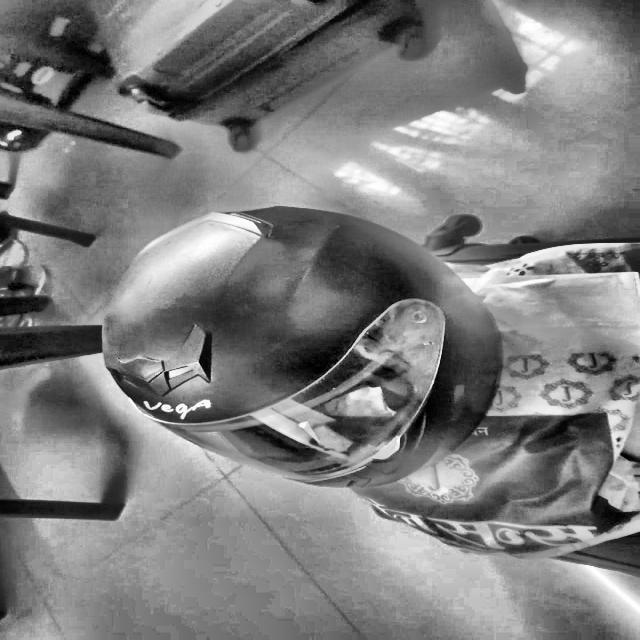Helmet: (92, 202, 510, 492)
